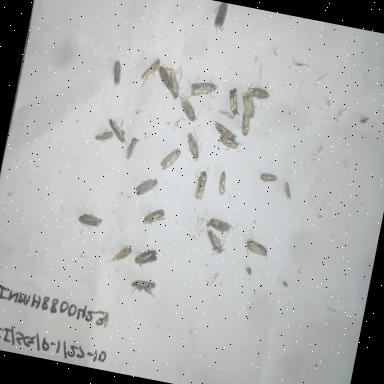pbw: (152, 60, 184, 104), (185, 74, 222, 102), (124, 275, 160, 303), (106, 50, 131, 90), (74, 206, 106, 237), (140, 202, 170, 234), (106, 238, 134, 272), (103, 114, 130, 149), (130, 172, 162, 201), (131, 242, 162, 271), (176, 92, 204, 124), (182, 130, 209, 163), (208, 3, 235, 35), (222, 80, 242, 123), (137, 54, 162, 87), (121, 134, 144, 168), (242, 236, 272, 262), (158, 144, 183, 174), (192, 168, 212, 204), (212, 168, 233, 202), (208, 118, 238, 140), (239, 90, 261, 120), (201, 229, 226, 255), (90, 123, 116, 147), (206, 214, 234, 236), (216, 131, 242, 153), (245, 83, 274, 102), (238, 108, 256, 137), (255, 169, 280, 189), (280, 177, 297, 203)
